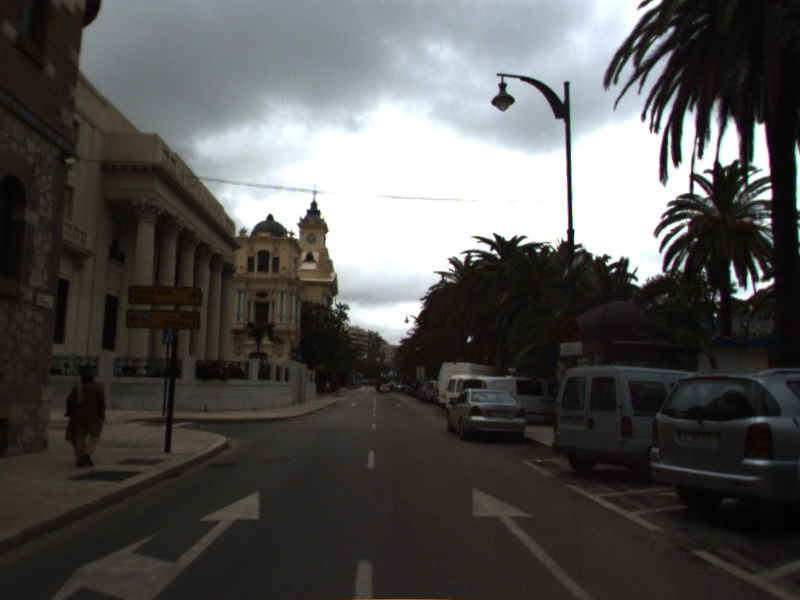STRAIGHT: (470, 484, 594, 598)
STRAIGHT_LEFT: (53, 486, 263, 600)
